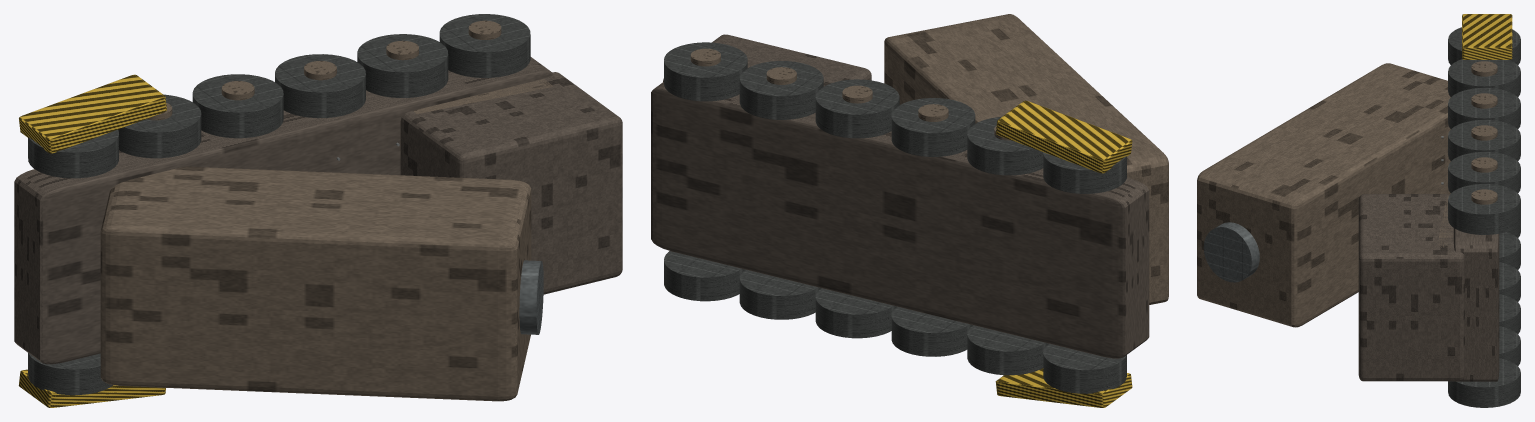
Rendered from d-x05-dominion-strategic-lod0.glb.
3 views of the same model, side by side, from view 1: azimuth 30°, elevation 25°; view 2: azimuth 150°, elevation 25°; view 3: azimuth 270°, elevation 25° (orthographic). The views are drawn at different scales.
Visible parts, largest first — view 1: strategic_canister, strategic_lower, strategic_cab, strategic_jack_1, strategic_wheel_1_2, strategic_wheel_1_5, strategic_wheel_1_4, strategic_wheel_1_3, strategic_wheel_1_1, strategic_wheel_1_0, strategic_wheel_-1_0, strategic_jack_-1 (+6 smaller); view 2: strategic_lower, strategic_canister, strategic_jack_1, strategic_wheel_1_3, strategic_wheel_1_2, strategic_wheel_1_4, strategic_wheel_1_5, strategic_wheel_-1_0, strategic_wheel_-1_3, strategic_wheel_-1_2, strategic_wheel_-1_4, strategic_wheel_-1_1 (+9 smaller); view 3: strategic_canister, strategic_cab, strategic_lower, strategic_wheel_1_5, strategic_missile, strategic_jack_1, strategic_wheel_-1_5, strategic_wheel_1_4, strategic_wheel_1_3, strategic_wheel_1_2, strategic_wheel_1_1, strategic_wheel_1_0 (+9 smaller).
Boxes of the visible parts, x1,y1,x2,y2 form: strategic_canister: (100,166,531,401); strategic_lower: (14,57,553,364); strategic_cab: (400,72,622,294); strategic_jack_1: (19,74,166,153); strategic_wheel_1_2: (192,74,283,138); strategic_wheel_1_5: (439,14,530,77); strategic_wheel_1_4: (357,34,448,97); strategic_wheel_1_3: (275,54,365,118); strategic_wheel_1_1: (118,94,201,158); strategic_wheel_1_0: (28,129,118,178); strategic_wheel_-1_0: (28,353,112,395); strategic_jack_-1: (18,369,165,407); strategic_lower: (651,82,1149,358); strategic_canister: (884,14,1168,304); strategic_jack_1: (995,100,1132,173); strategic_wheel_1_3: (815,79,899,138); strategic_wheel_1_2: (891,98,975,156); strategic_wheel_1_4: (739,61,823,119); strategic_wheel_1_5: (664,42,747,101); strategic_wheel_-1_0: (1043,343,1126,393); strategic_wheel_-1_3: (815,288,896,338); strategic_wheel_-1_2: (891,306,972,356); strategic_wheel_-1_4: (739,269,820,319); strategic_wheel_-1_1: (967,325,1048,375); strategic_canister: (1197,63,1450,327); strategic_cab: (1358,194,1464,381); strategic_lower: (1453,228,1499,381); strategic_wheel_1_5: (1448,184,1520,234); strategic_missile: (1203,222,1259,282); strategic_jack_1: (1462,14,1512,59); strategic_wheel_-1_5: (1448,358,1520,407); strategic_wheel_1_4: (1448,152,1520,192); strategic_wheel_1_3: (1448,120,1520,160); strategic_wheel_1_2: (1448,88,1520,128); strategic_wheel_1_1: (1448,59,1520,96); strategic_wheel_1_0: (1448,27,1520,64).
Size of what is drawn, in the model's own units: 11.94 by 6.48 by 8.
7 materials, 7 textured.
